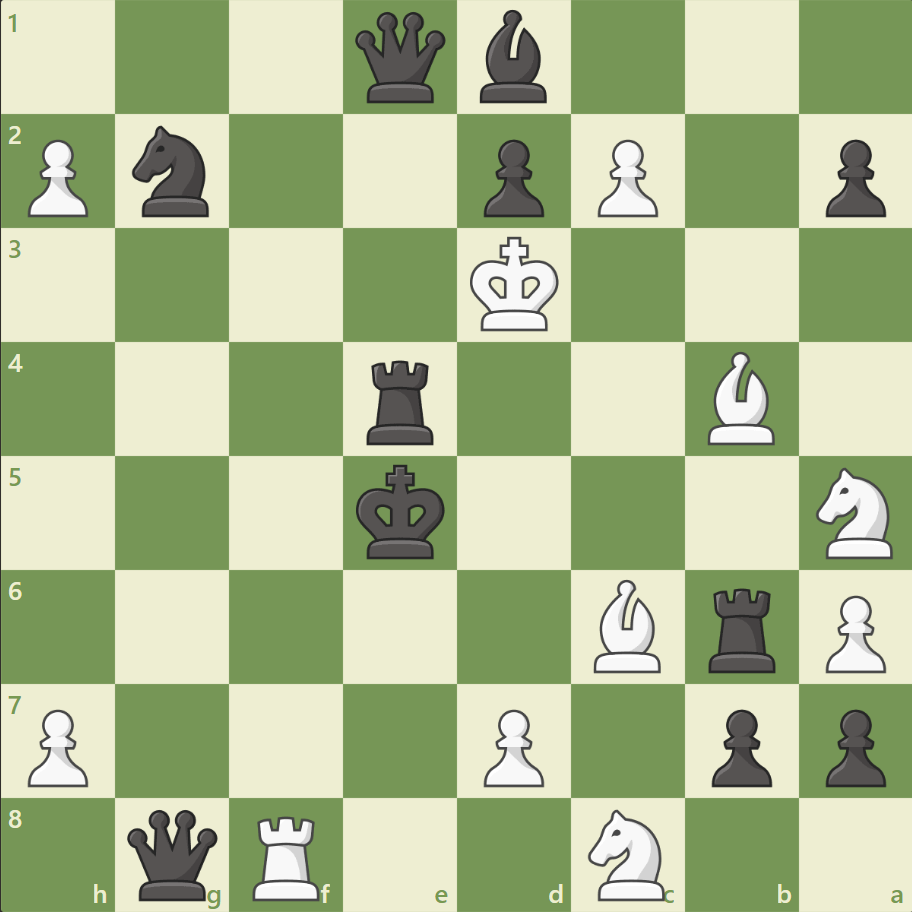B: (585, 574, 669, 676), (698, 347, 782, 449)
K: (465, 231, 565, 339)
N: (806, 461, 903, 564), (579, 802, 676, 904)
P: (474, 700, 549, 791), (20, 700, 95, 791), (20, 132, 95, 223), (815, 586, 889, 677), (588, 132, 662, 223)
R: (246, 806, 329, 904)
b: (471, 6, 555, 109)
k: (351, 458, 451, 566)
n: (124, 121, 222, 223)
p: (701, 700, 776, 791), (474, 132, 549, 223), (815, 700, 889, 791), (815, 132, 889, 223)
q: (124, 804, 223, 903), (351, 9, 450, 108)
r: (700, 579, 783, 676), (360, 352, 442, 449)
